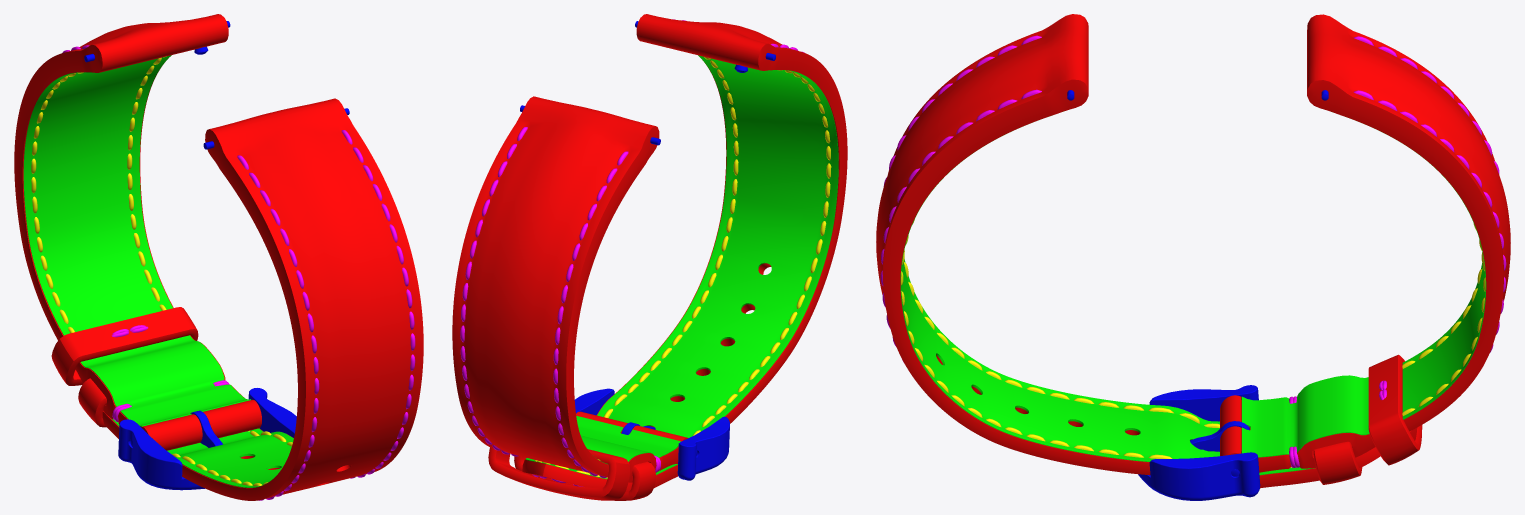
File: Tank_Must_S_Calf.fbx
3 renders of one model, left to right at view 1: azimuth 30°, elevation 25°; view 2: azimuth 150°, elevation 25°; view 3: azimuth 270°, elevation 25°, orthographic. The views are drawn at different scales.
Visible parts, largest first — view 1: Tank_Must_S_Calf; view 2: Tank_Must_S_Calf; view 3: Tank_Must_S_Calf.
Part boxes in pixels (x1,y1,x2,y2): Tank_Must_S_Calf: (14, 14, 423, 500); Tank_Must_S_Calf: (452, 14, 847, 500); Tank_Must_S_Calf: (876, 14, 1510, 500).
Bounding box in the file's own units: 1.89 × 4.73 × 6.42.
